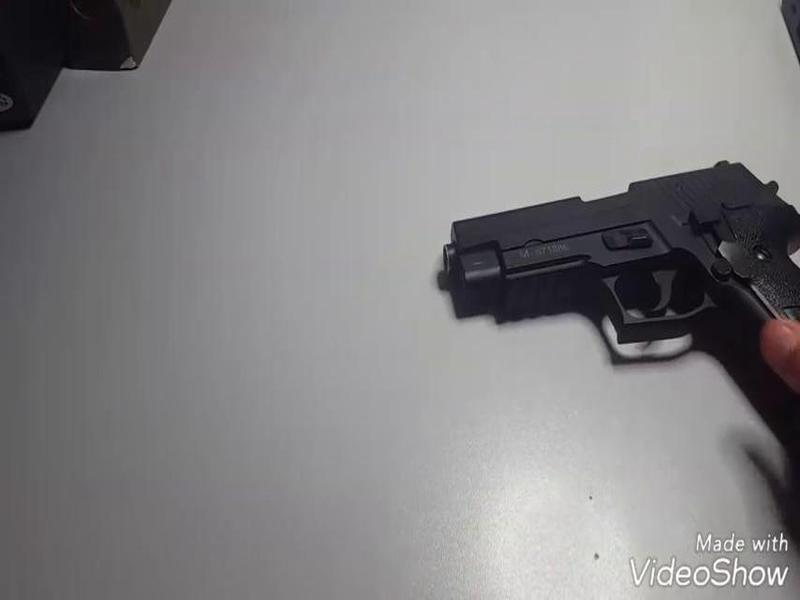Pistola: (437, 151, 796, 364)
